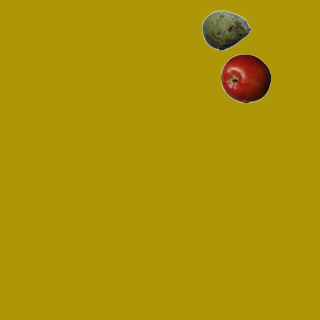Apple Braeburn: (220, 53, 270, 103)
Pear Stone: (201, 5, 251, 55)
